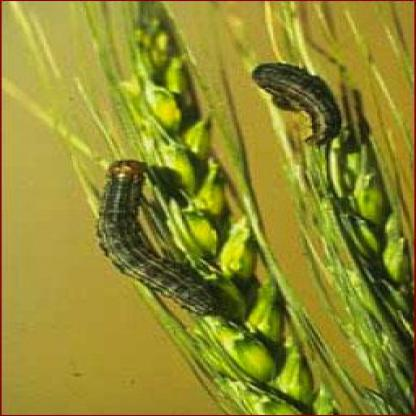armyworm: (94, 157, 227, 318), (249, 60, 354, 149)
